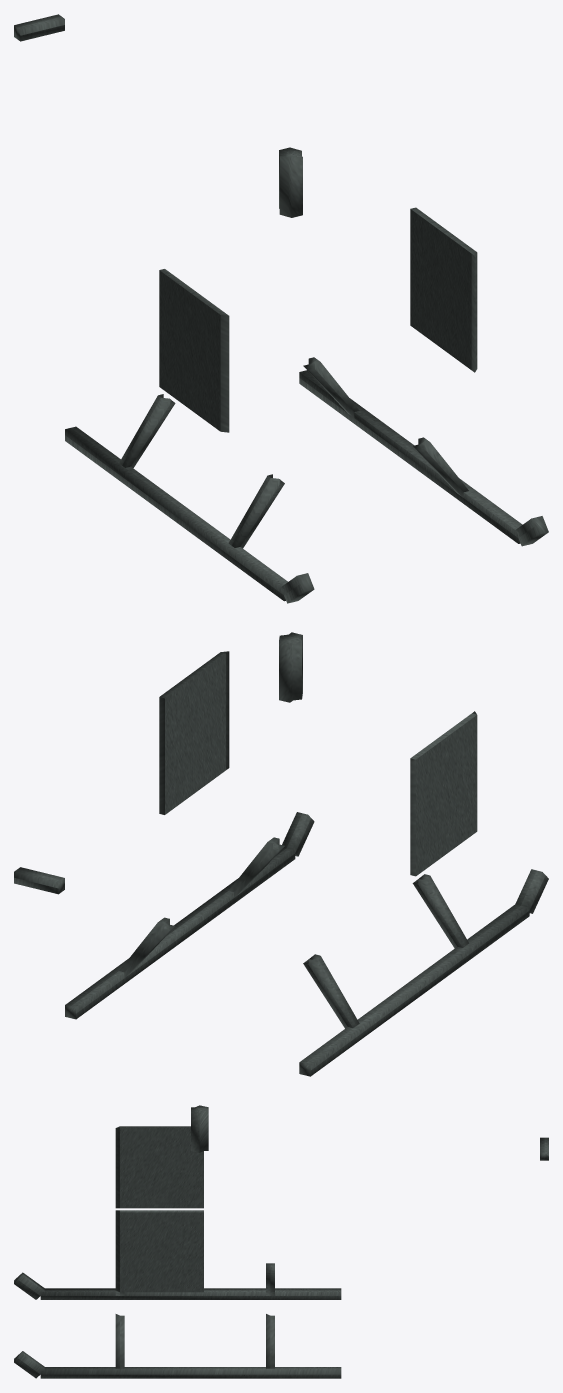
3 views of the same model, one above another, from view 1: azimuth 30°, elevation 25°; view 2: azimuth 150°, elevation 25°; view 3: azimuth 270°, elevation 25° (orthographic). The views are drawn at different scales.
Bounding box in the file's own units: 2.3 × 2.85 × 6.05.
Materials: 1 (1 with a texture image).
